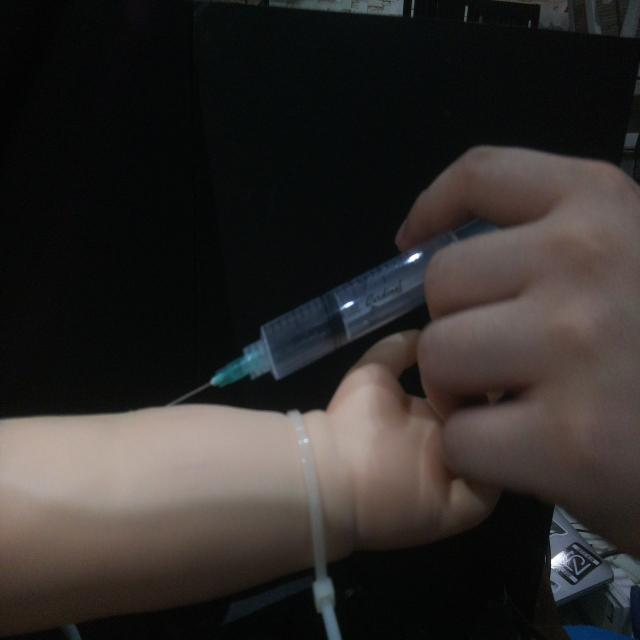17deg: (161, 212, 503, 410)
